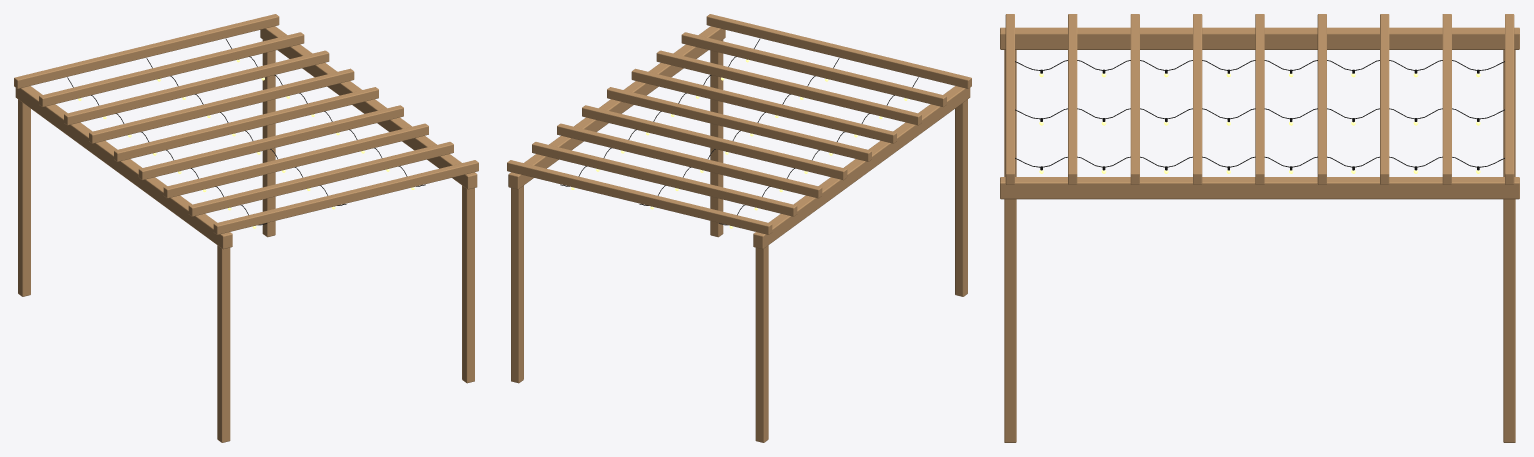
Rendered from pergola-lights.glb.
The picture shows the model from 3 angles, left to right: view 1: azimuth 30°, elevation 25°; view 2: azimuth 150°, elevation 25°; view 3: azimuth 270°, elevation 25°; orthographic projection. The views are drawn at different scales.
Parts seen in each view (by area): view 1: beam, rafter, rafter.002, rafter.008, rafter.003, rafter.005, rafter.006, rafter.001, rafter.007, rafter.004, post, beam.001 (+3 smaller); view 2: beam, rafter, rafter.002, rafter.006, rafter.003, rafter.005, rafter.008, rafter.001, rafter.007, rafter.004, post.001, beam.001 (+3 smaller); view 3: beam.001, beam, post.002, post.003, rafter.004, rafter.001, rafter.002, rafter.006, rafter.007, rafter, rafter.003, rafter.005 (+6 smaller).
Part boxes in pixels (x1,y1,x2,y2): beam: (15,86,232,249); rafter: (213,160,478,234); rafter.002: (163,123,428,198); rafter.008: (14,14,279,88); rafter.003: (138,105,403,180); rafter.005: (89,68,354,143); rafter.006: (64,50,329,125); rafter.001: (188,142,453,216); rafter.007: (39,32,304,106); rafter.004: (114,87,378,161); post: (217,245,230,442); beam.001: (260,26,477,189); beam: (753,86,970,249); rafter: (706,14,971,88); rafter.002: (656,50,921,125); rafter.006: (557,123,822,198); rafter.003: (631,68,896,143); rafter.005: (582,105,847,180); rafter.008: (507,160,772,234); rafter.001: (681,32,946,106); rafter.007: (532,142,797,216); rafter.004: (607,87,871,161); post.001: (755,245,768,442); beam.001: (508,26,725,189); beam.001: (1000,177,1519,199); beam: (1000,27,1519,49); post.002: (1004,199,1016,442); post.003: (1503,199,1515,442); rafter.004: (1255,14,1264,184); rafter.001: (1068,14,1077,184); rafter.002: (1130,14,1139,184); rafter.006: (1380,14,1389,184); rafter.007: (1442,14,1451,184); rafter: (1005,14,1014,184); rafter.003: (1193,14,1202,184); rafter.005: (1317,14,1326,184).
Size of the model in its own units: 3.64 by 2.89 by 5.
